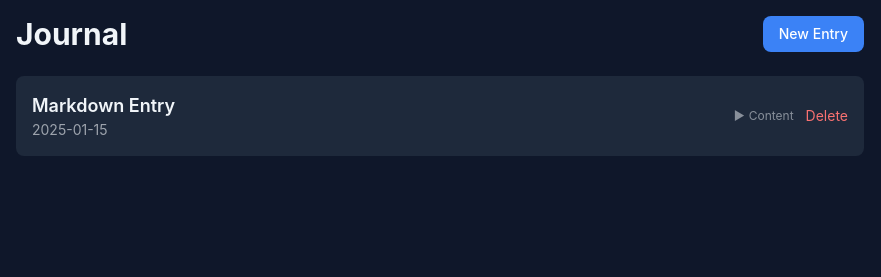
JournalList › expands and collapses rendered markdown content
This screenshot has width=881, height=277.
Check: the heading "Markdown Entry" is shown, box [32,95,175,116]
Check: the text "Hello" is not shown
Click the button with aria-label "Toggle content" at (764, 116), box [734,108,794,124]
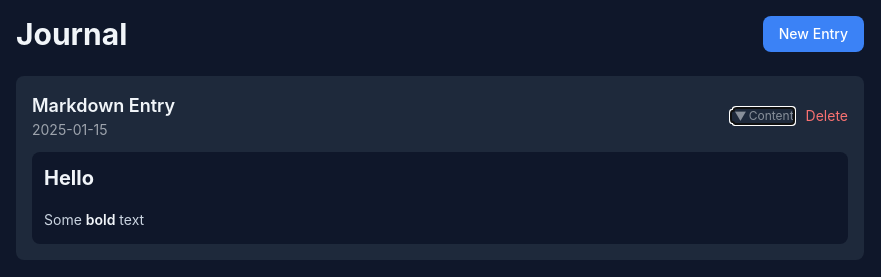
Check: the button with aria-label "Toggle content" is expanded
Check: the heading "Hello" is shown, box [44,166,94,190]
Click again to collapse
Click the button with aria-label "Toggle content" at (764, 116), box [734,108,794,124]
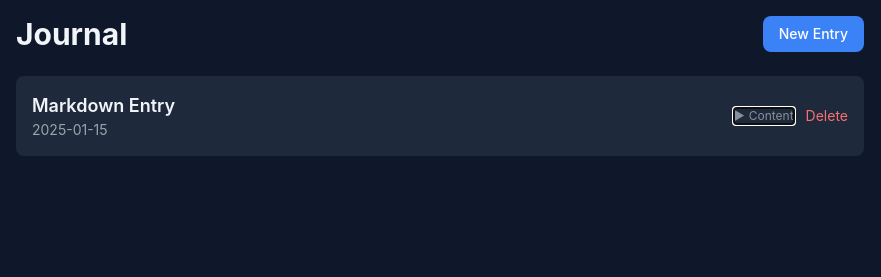
Check: the button with aria-label "Toggle content" is collapsed, box [734,108,794,124]
Check: the heading "Hello" is gone
